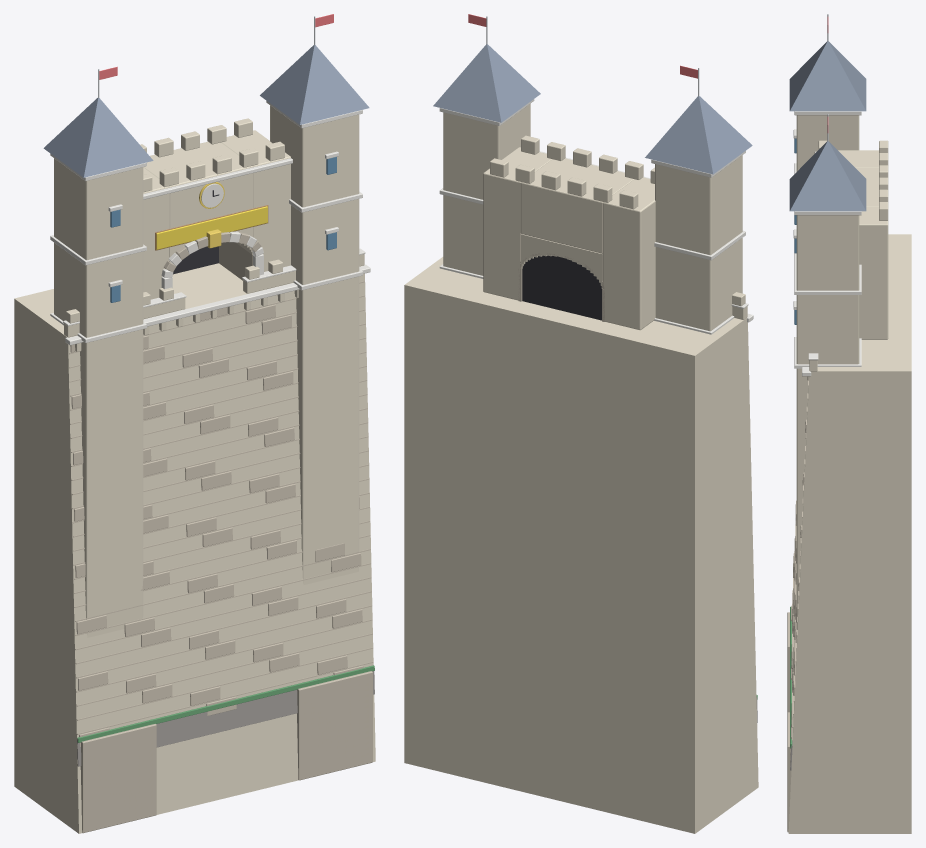
Rendered from rail_gate.fbx.
3 renders of one model, left to right at view 1: azimuth 30°, elevation 25°; view 2: azimuth 150°, elevation 25°; view 3: azimuth 270°, elevation 25°, orthographic. The views are drawn at different scales.
Visible parts, largest first — view 1: Visual; view 2: Visual; view 3: Visual.
Boxes of the visible parts, x1,y1,x2,y2 form: Visual: (14,14,375,833); Visual: (404,14,758,833); Visual: (787,14,911,833).
Size of what is drawn, in the model's own units: 2840 by 6670 by 1070.
